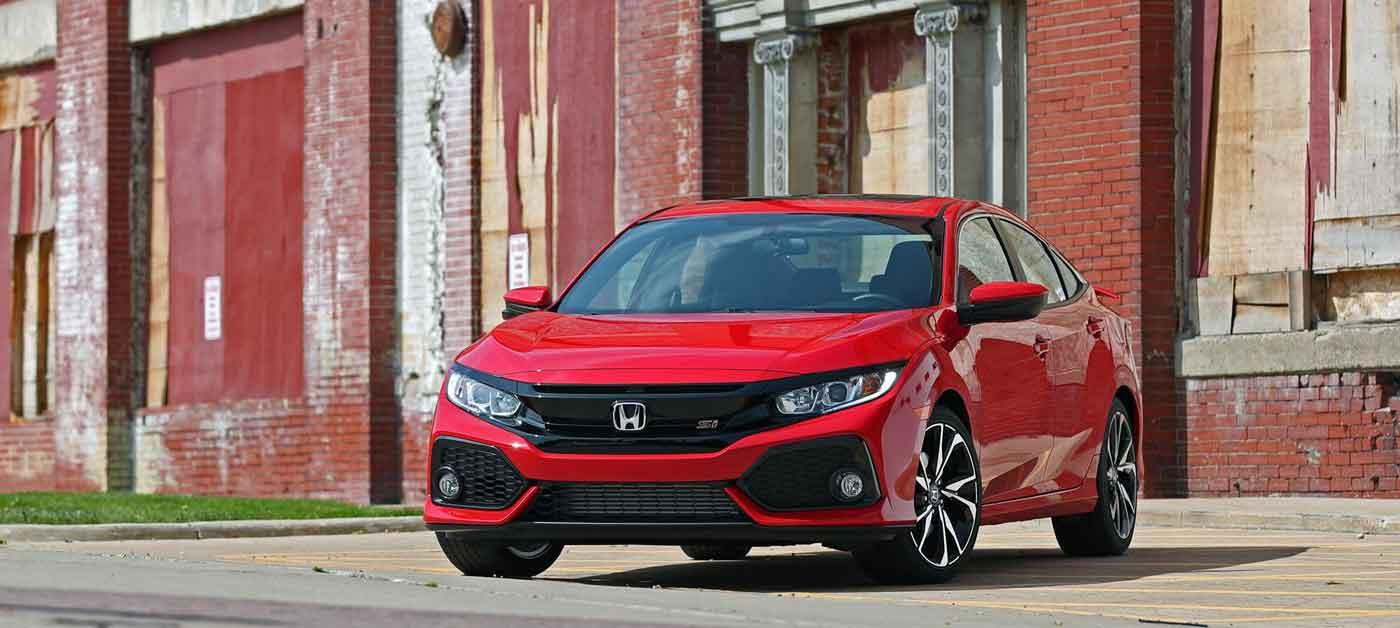car: (421, 187, 1145, 581)
